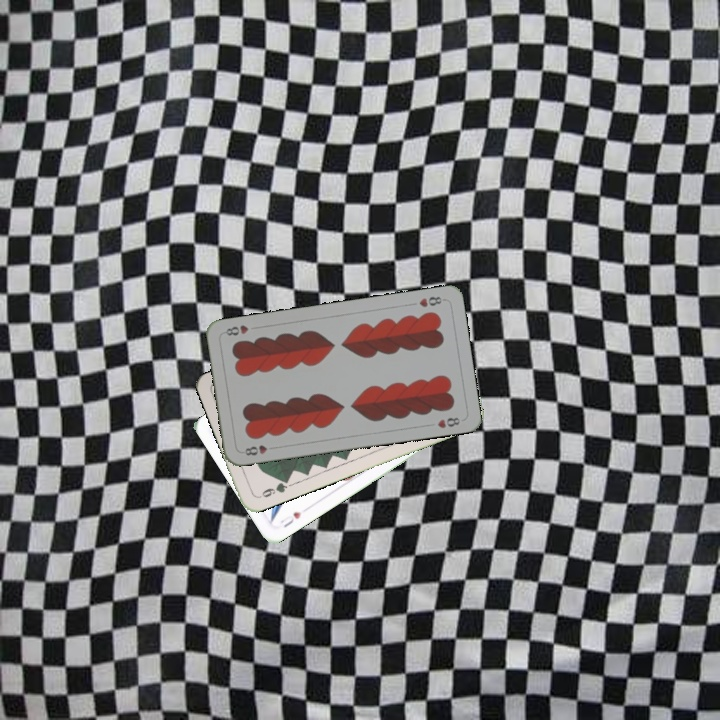G9: (254, 475, 291, 501)
H8: (415, 292, 447, 310), (241, 441, 270, 458)
HU: (276, 508, 304, 530)
